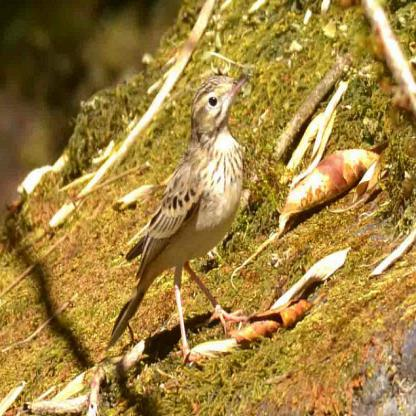Burung: (106, 73, 248, 352)
